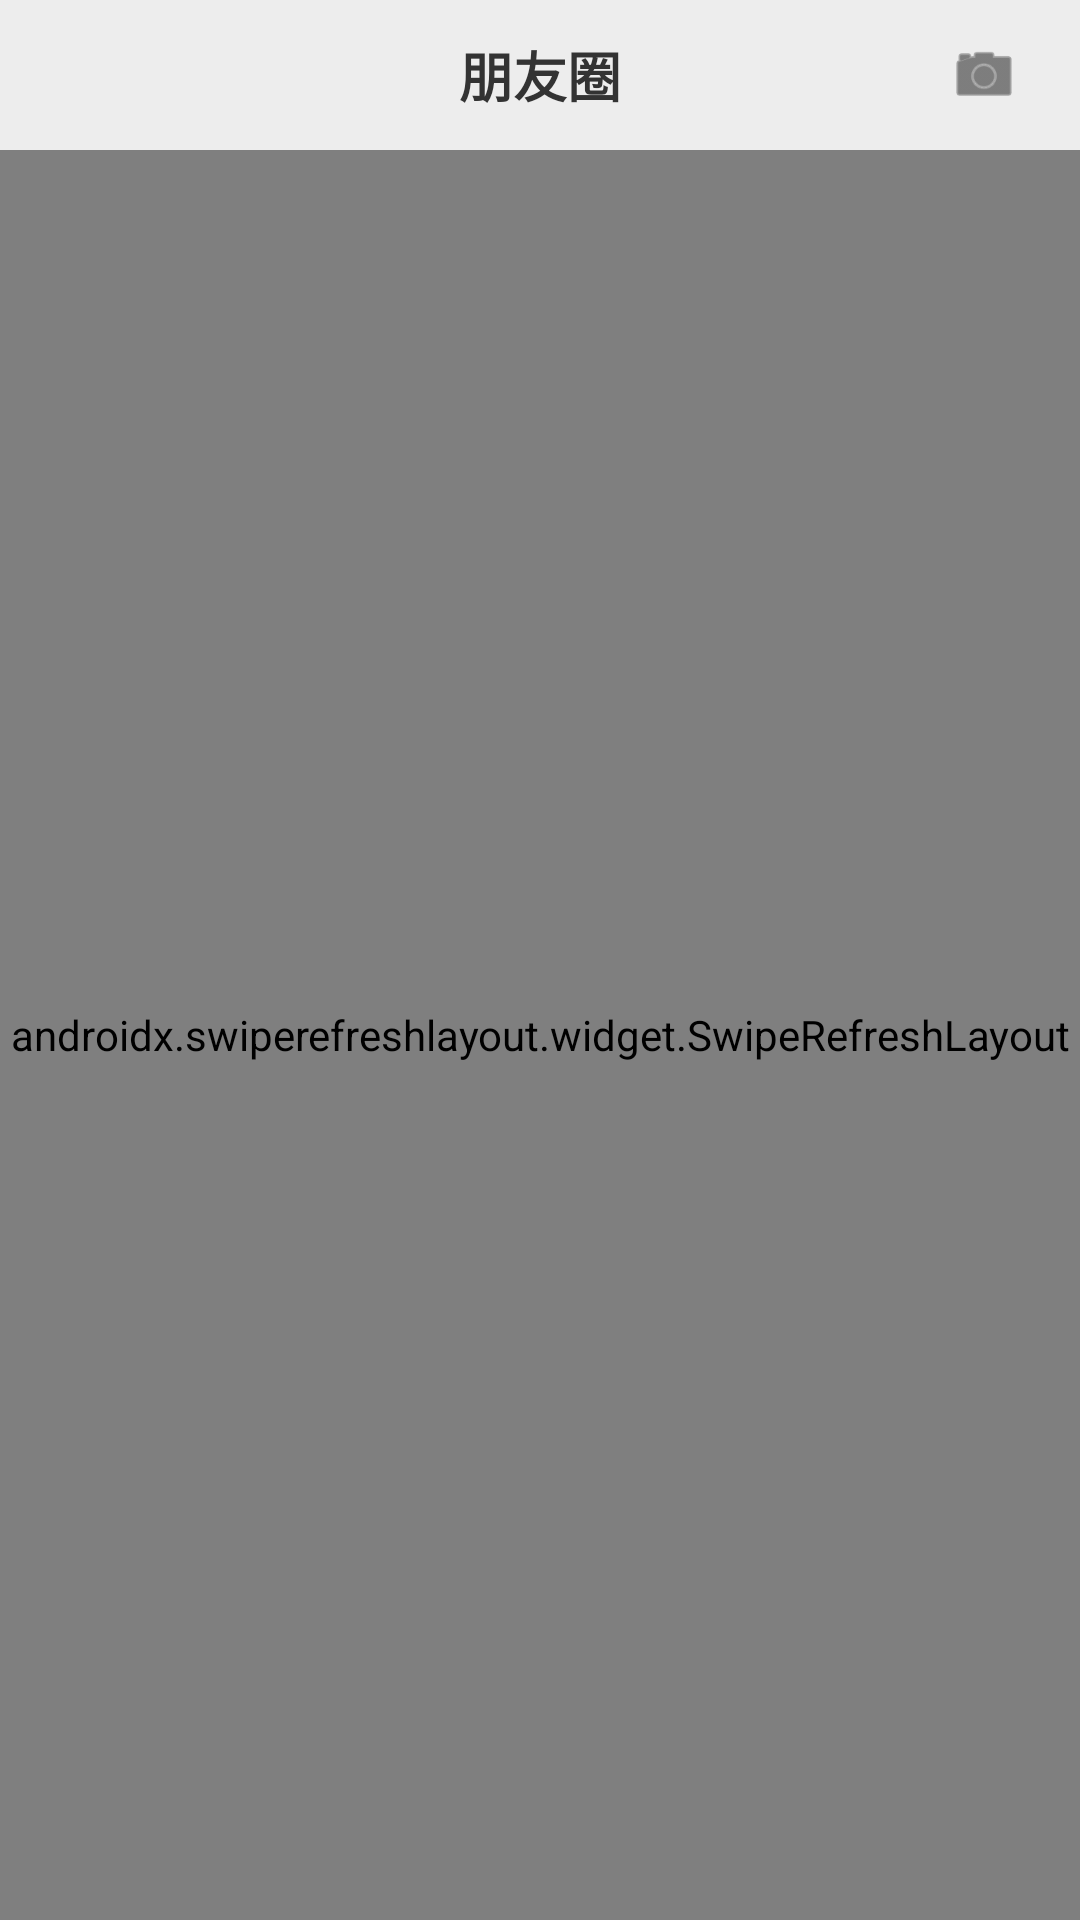

Icons on this 1080x1920 Android screen, each with the point to tap as [x,y]:
camera: [984,74]
